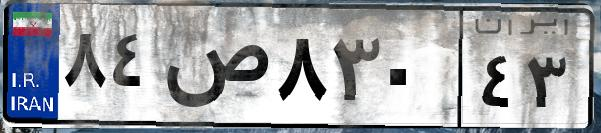0: (385, 28, 445, 110)
3: (330, 28, 385, 110), (525, 38, 570, 115)
4: (475, 38, 525, 113), (110, 28, 158, 98)
8: (270, 28, 330, 110), (57, 26, 110, 100)
ص: (158, 20, 270, 120)
